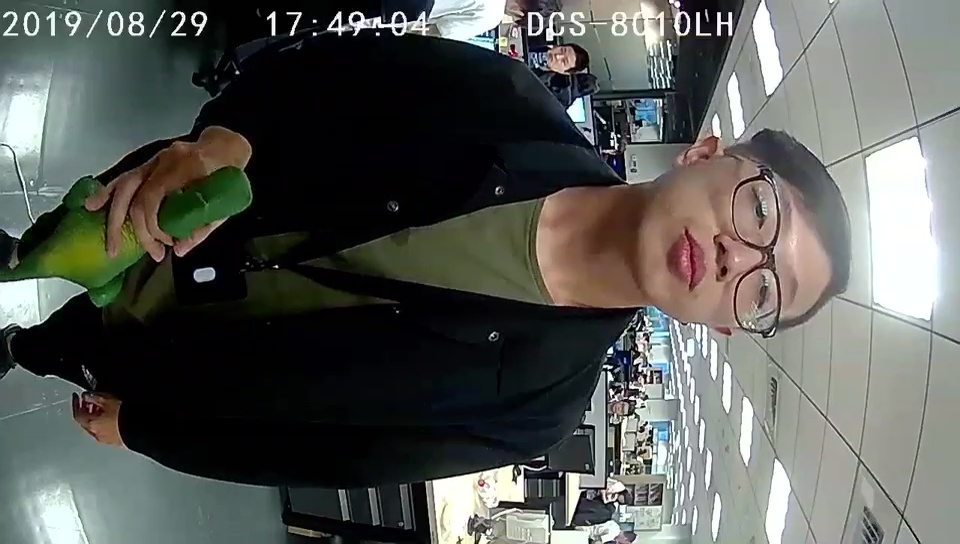rex: (39, 165, 254, 307)
